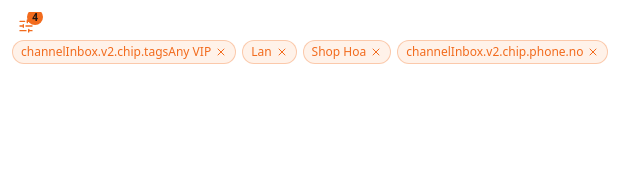
Test: inbox filter chips › shows one removable chip per active value on a scrolling line
Click the button named "channelInbox.v2.list.removeChip channelInbox.v2.chip.tagsAny VIP" at (124, 52), box left=12, top=40, right=236, bottom=64
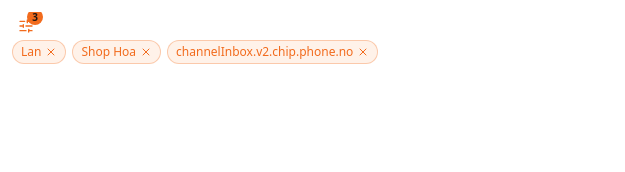
Expected: the button with aria-label "removeChip Lan" is shown, left=12, top=40, right=66, bottom=64
Expected: the number of list items is 3, left=12, top=40, right=66, bottom=64; left=72, top=40, right=161, bottom=64; left=167, top=40, right=378, bottom=64
